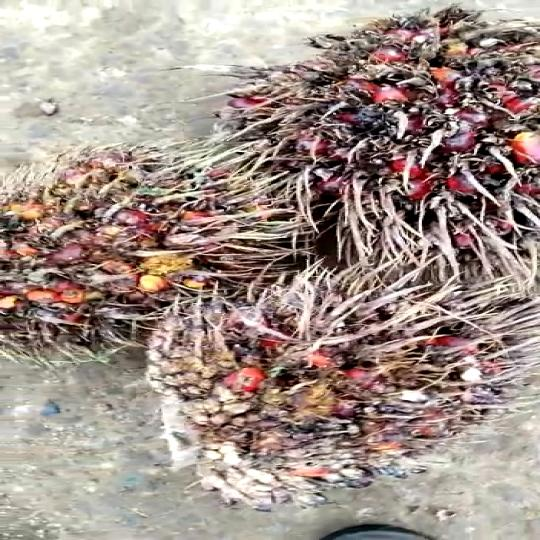terlalu masak: (152, 247, 540, 491), (213, 19, 540, 246), (0, 141, 301, 345)
